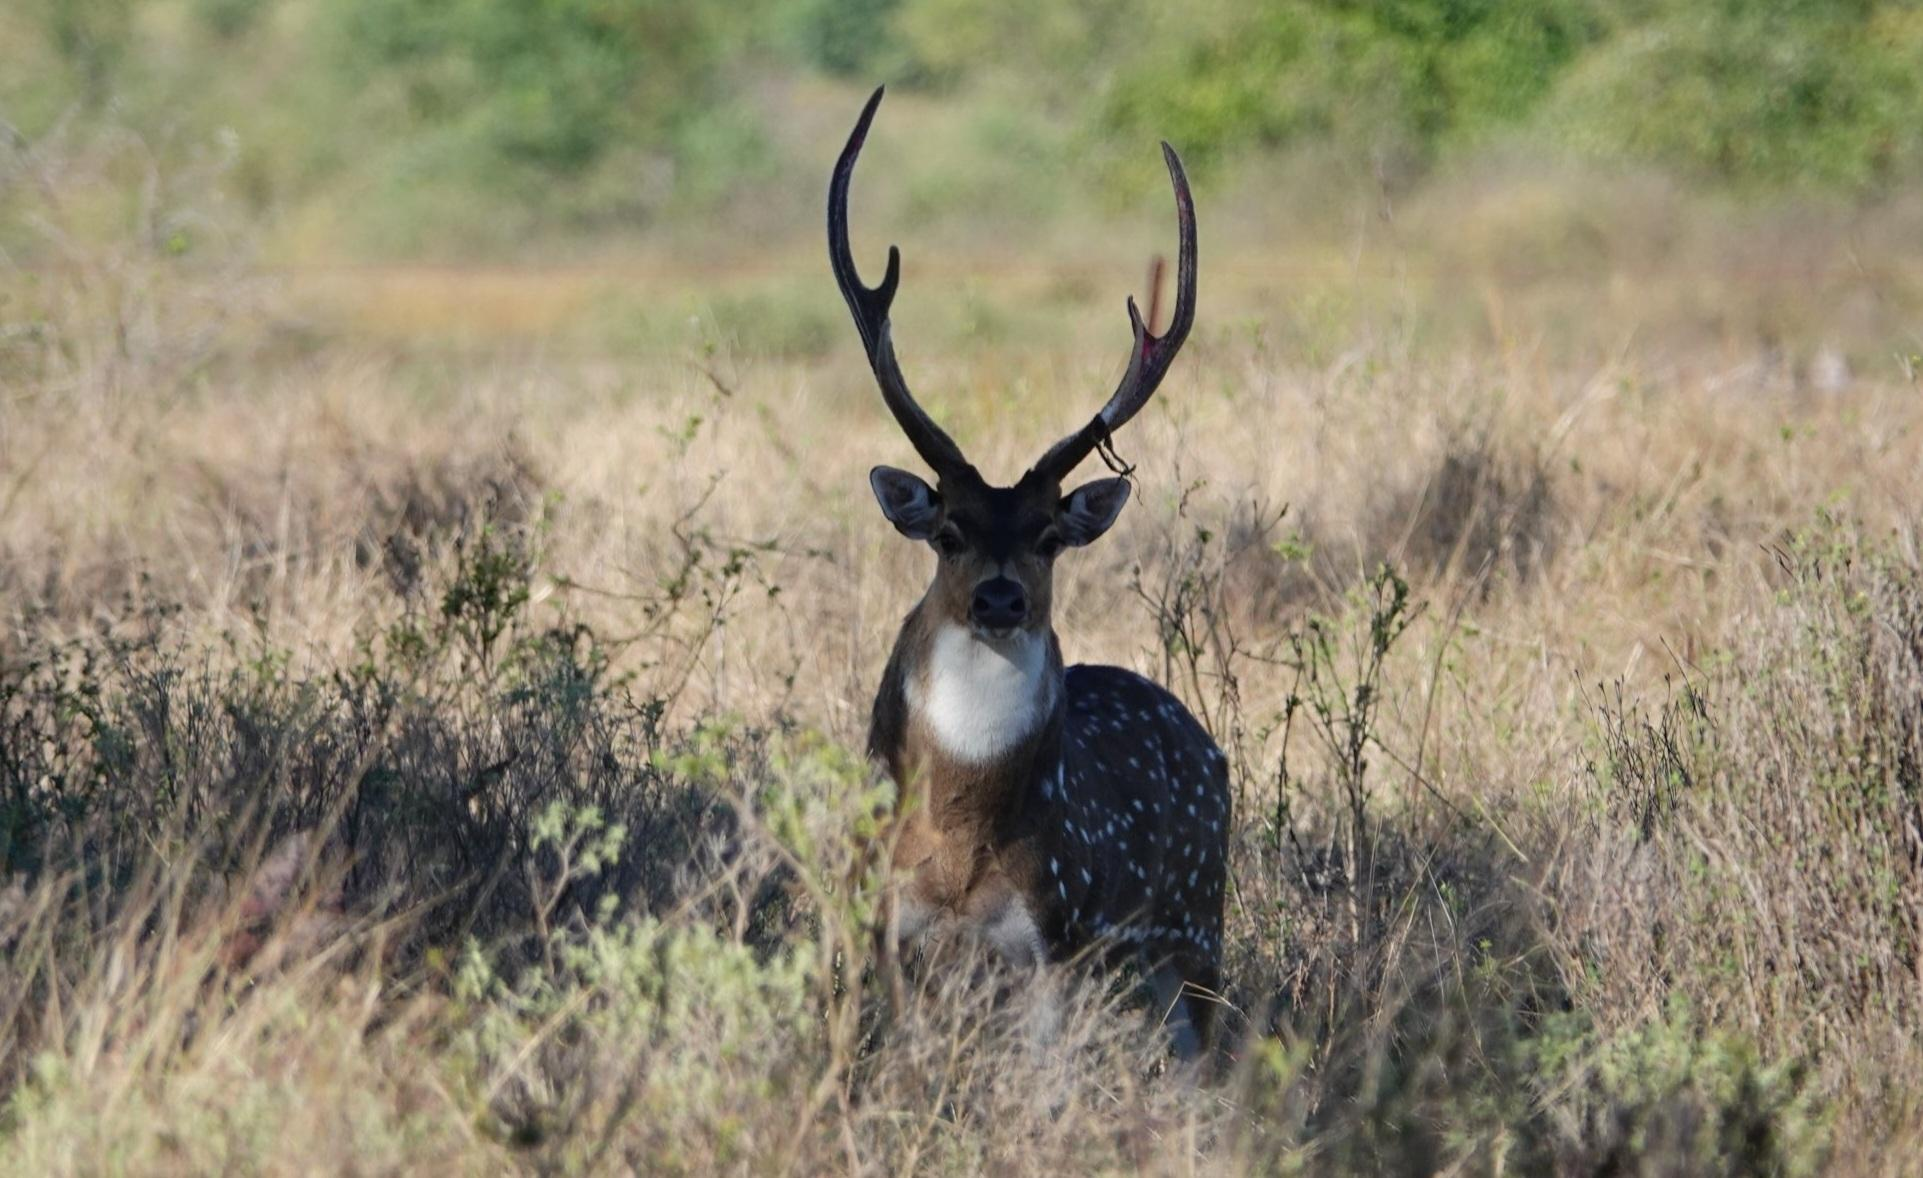Deer: (827, 89, 1229, 1059)
